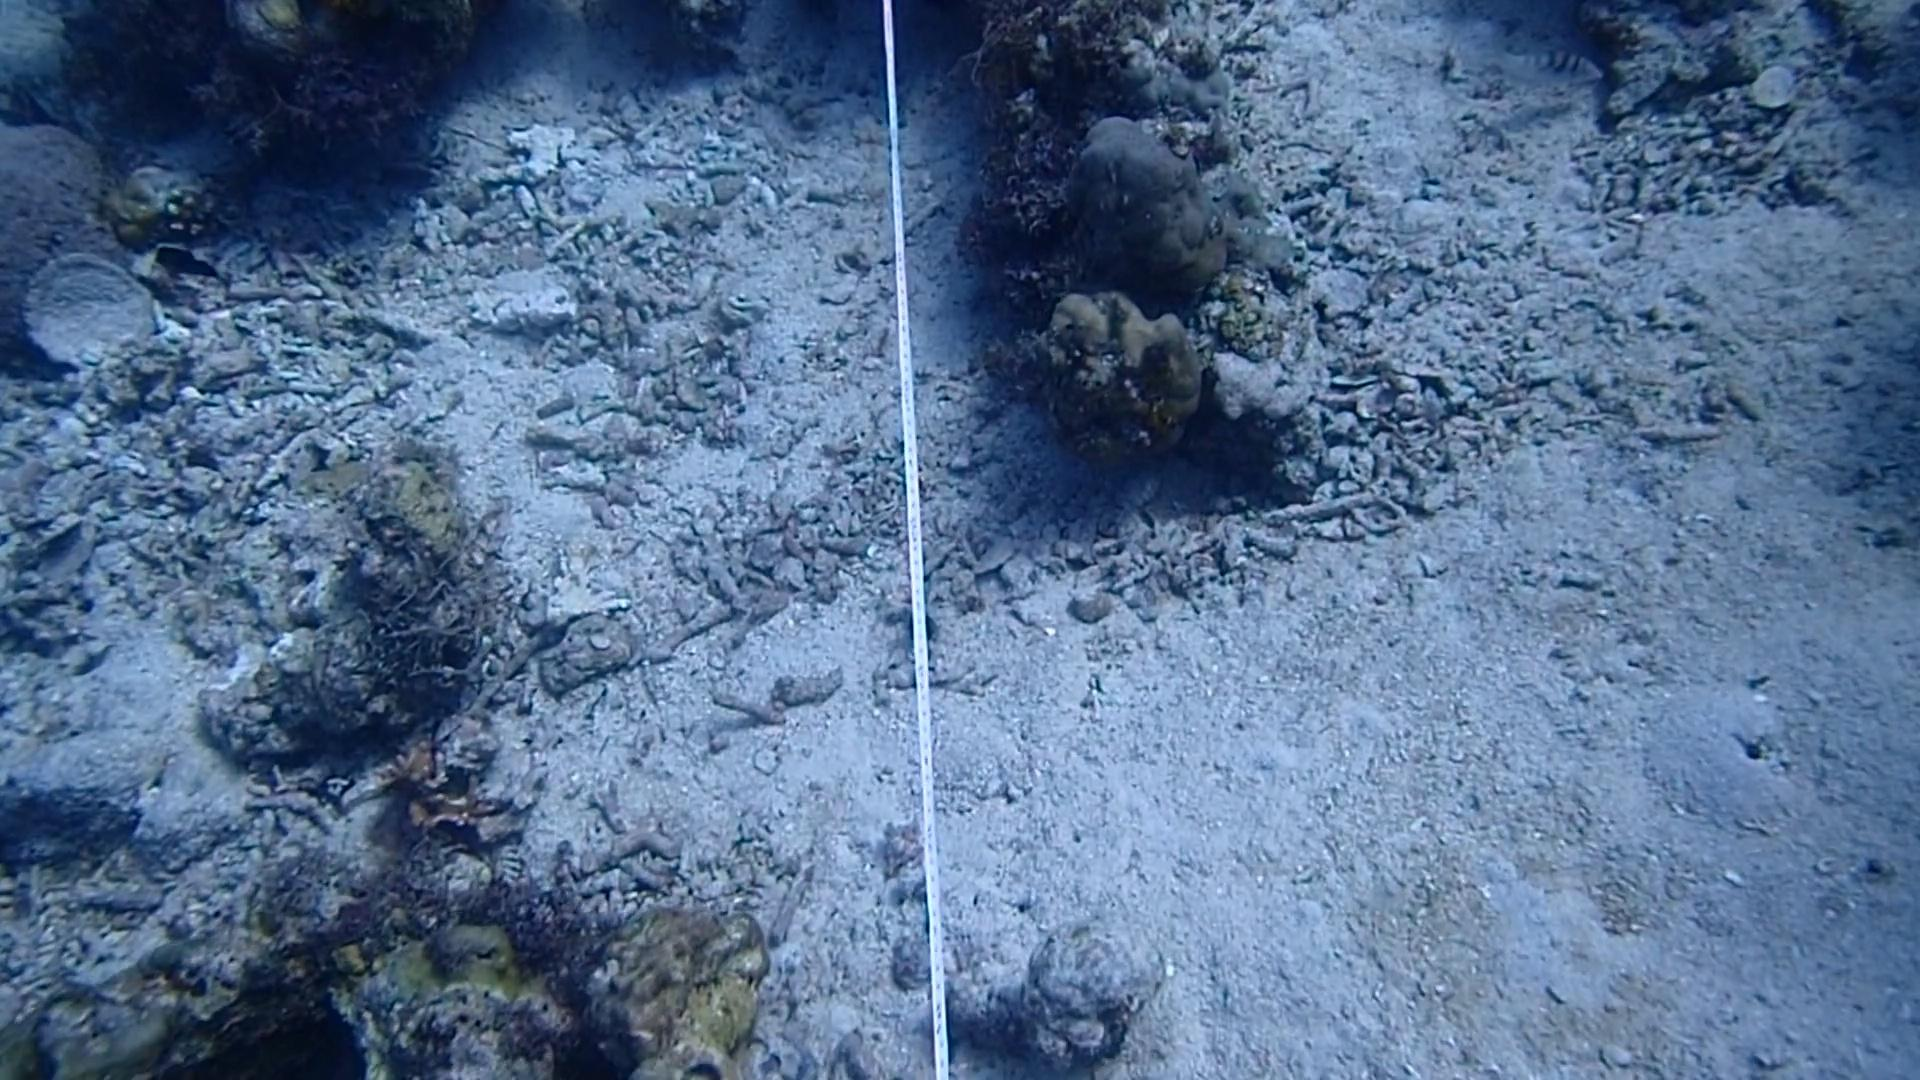Dark Fish: (153, 235, 222, 286)
